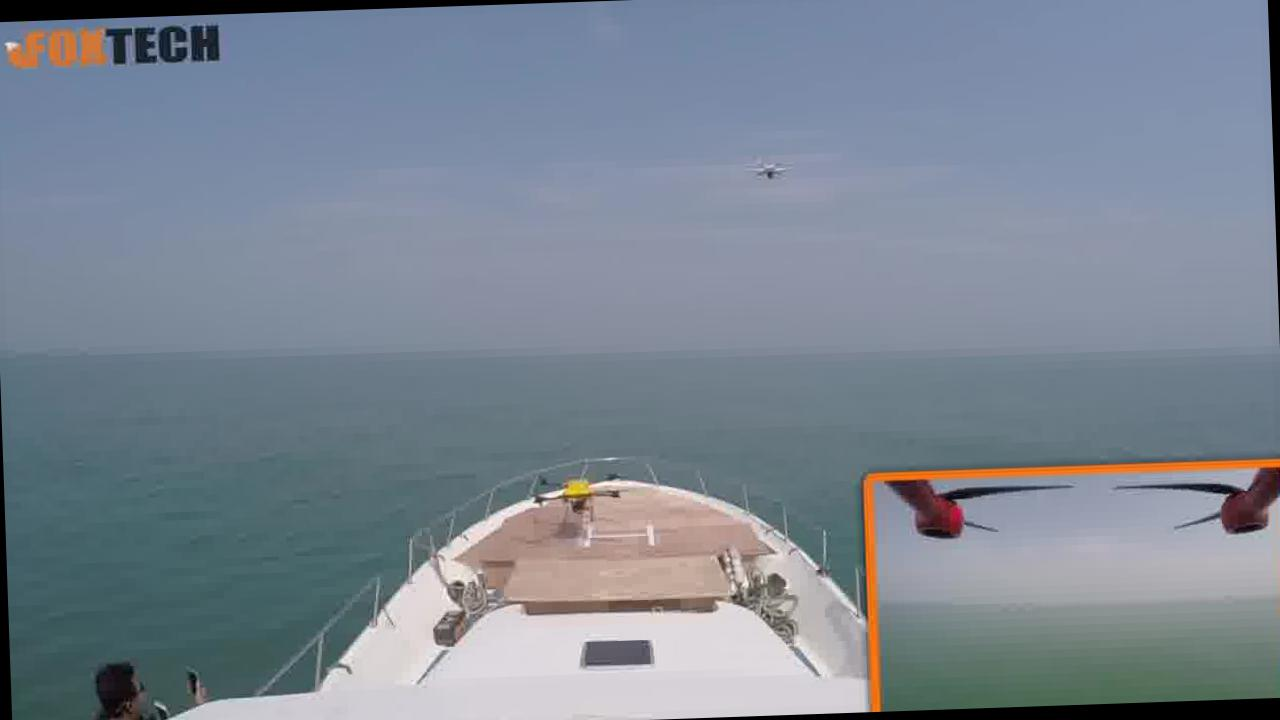drone: (506, 441, 650, 516), (744, 152, 799, 195)
